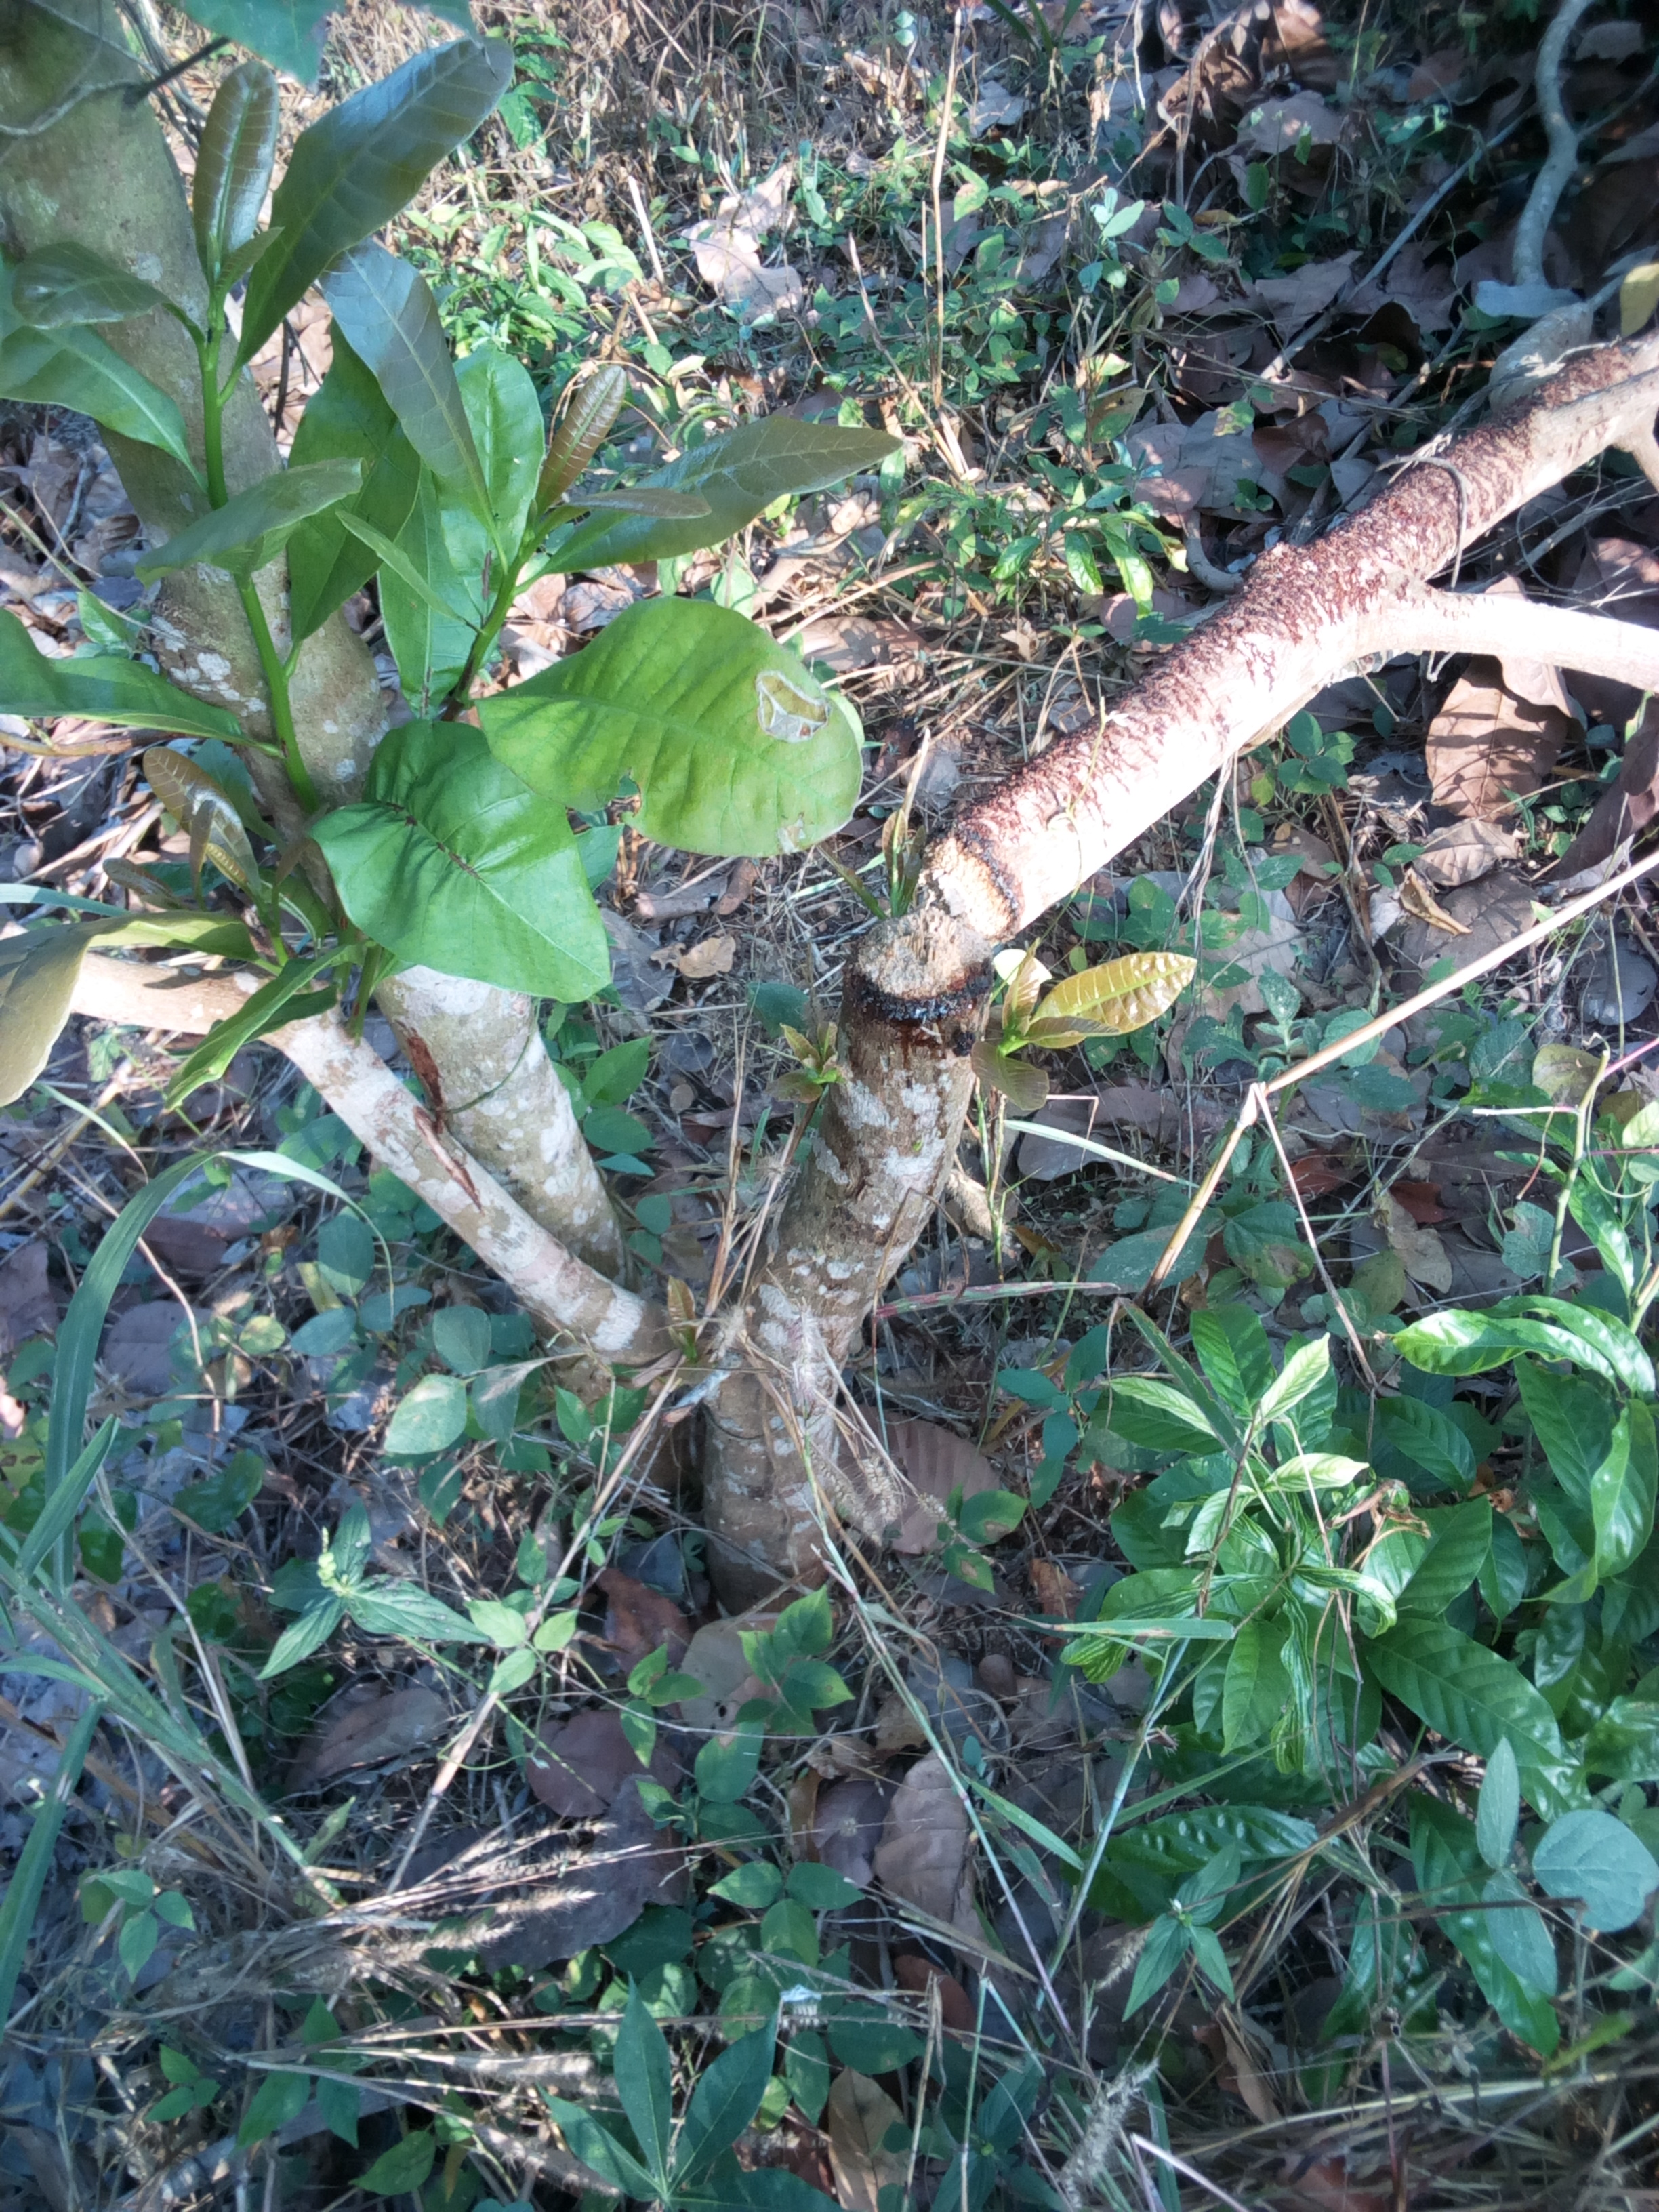Analepse trifasciata: (775, 791, 1105, 1103)
